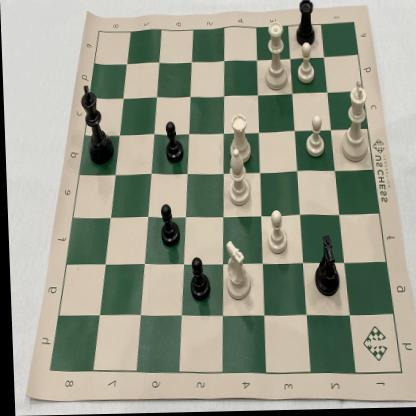black-king: (75, 81, 116, 169)
black-knight: (308, 234, 340, 302)
black-pawn: (155, 199, 181, 253), (185, 253, 211, 304), (162, 121, 185, 170)
black-rook: (293, 0, 319, 50)
white-bishop: (223, 148, 250, 208)
white-king: (336, 79, 371, 167)
white-knight: (221, 238, 251, 305)
white-pawn: (263, 207, 290, 259), (301, 111, 327, 162), (291, 41, 318, 88)
white-queen: (260, 20, 289, 96)
white-rook: (225, 112, 252, 167)
